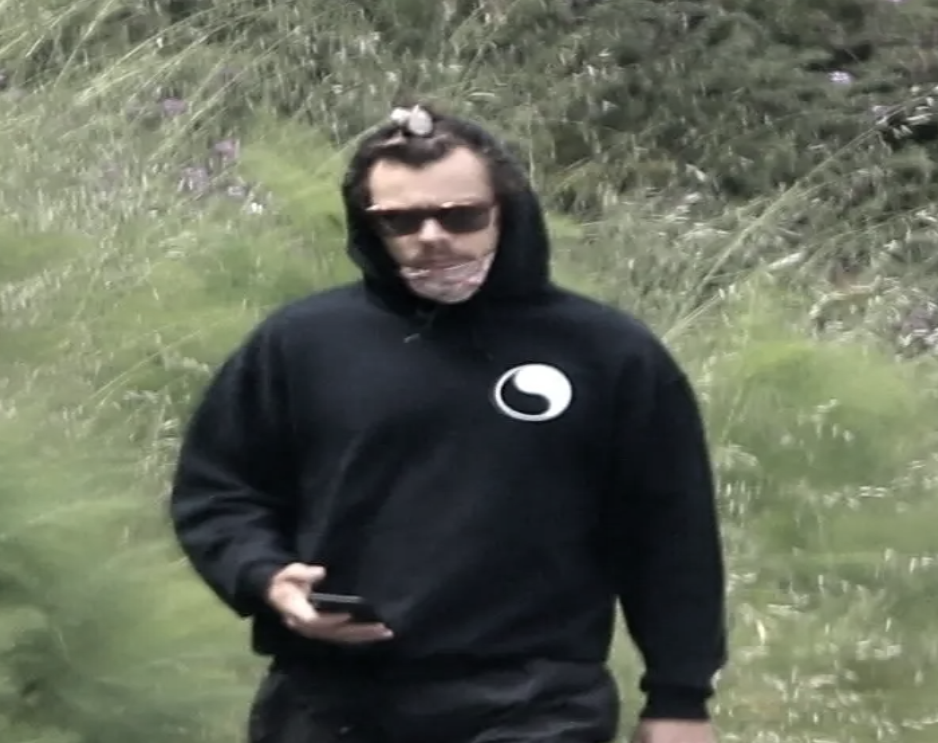mask_weared_incorrect: (343, 126, 526, 312)
